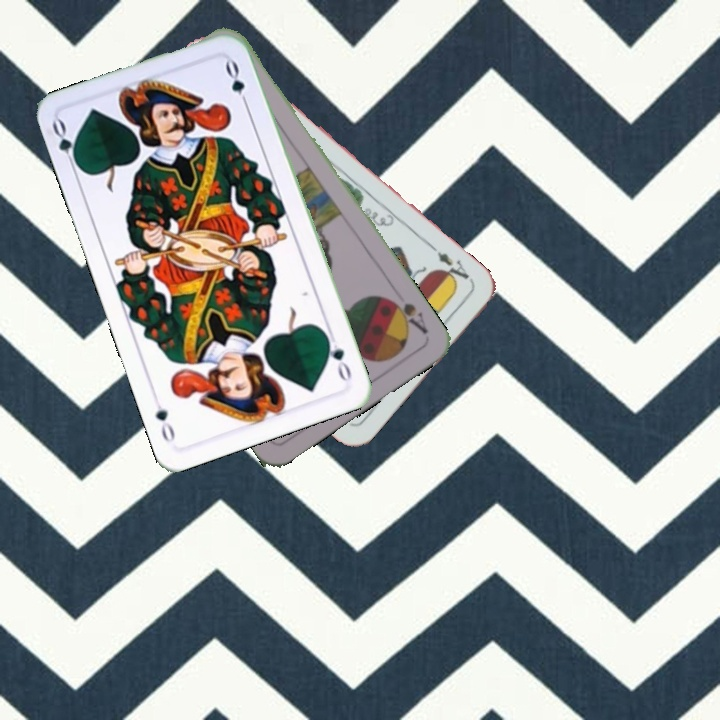EA: (432, 247, 476, 288)
GO: (47, 116, 83, 174), (321, 328, 354, 385)
SA: (383, 293, 431, 337)
